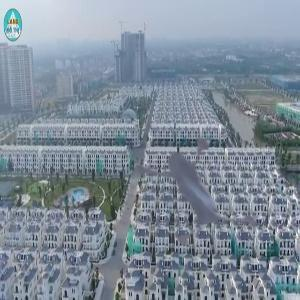drone: (116, 103, 291, 278)
